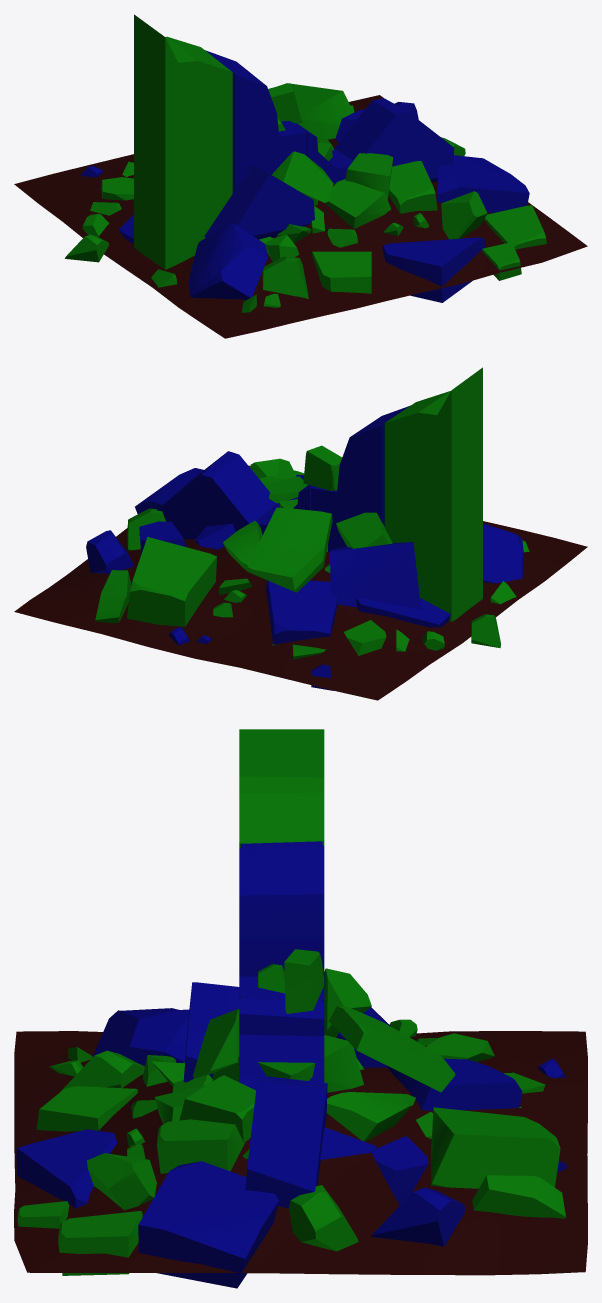
Rendered from SM_DefenseWallBroken01.FBX.
The picture shows the model from 3 angles, top to bottom: view 1: azimuth 30°, elevation 25°; view 2: azimuth 150°, elevation 25°; view 3: azimuth 270°, elevation 25°; orthographic projection. The views are drawn at different scales.
Visible parts, largest first — view 1: sdgf, Object012; view 2: sdgf, Object012; view 3: sdgf, Object012.
Part boxes in pixels (x1=…): sdgf: x1=14, y1=83, x2=587, y2=338; Object012: x1=134, y1=14, x2=352, y2=269; sdgf: x1=14, y1=445, x2=587, y2=700; Object012: x1=256, y1=367, x2=482, y2=621; sdgf: x1=14, y1=949, x2=587, y2=1288; Object012: x1=239, y1=729, x2=324, y2=1090.
Size of the model in its own units: 1942 by 1212 by 1760.
